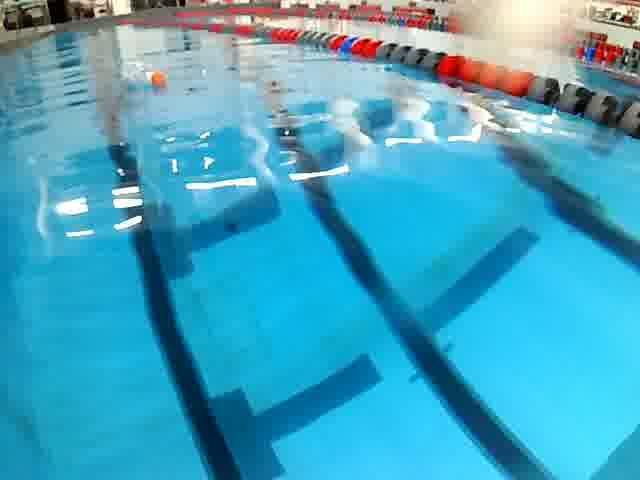Bottle: (104, 51, 171, 105)
